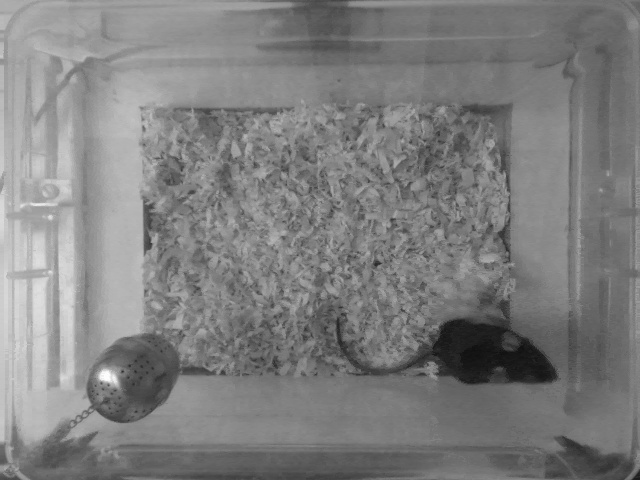mice: (334, 313, 564, 387)
